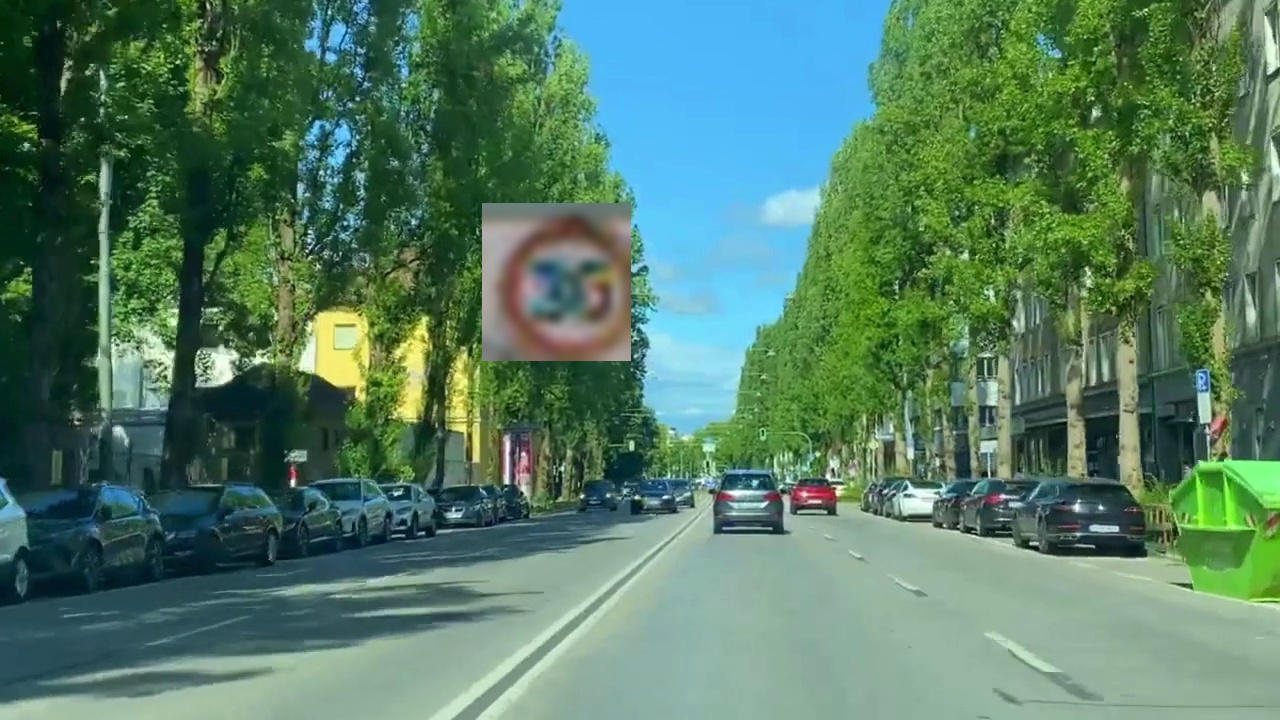Speed 30: (482, 203, 631, 361)
